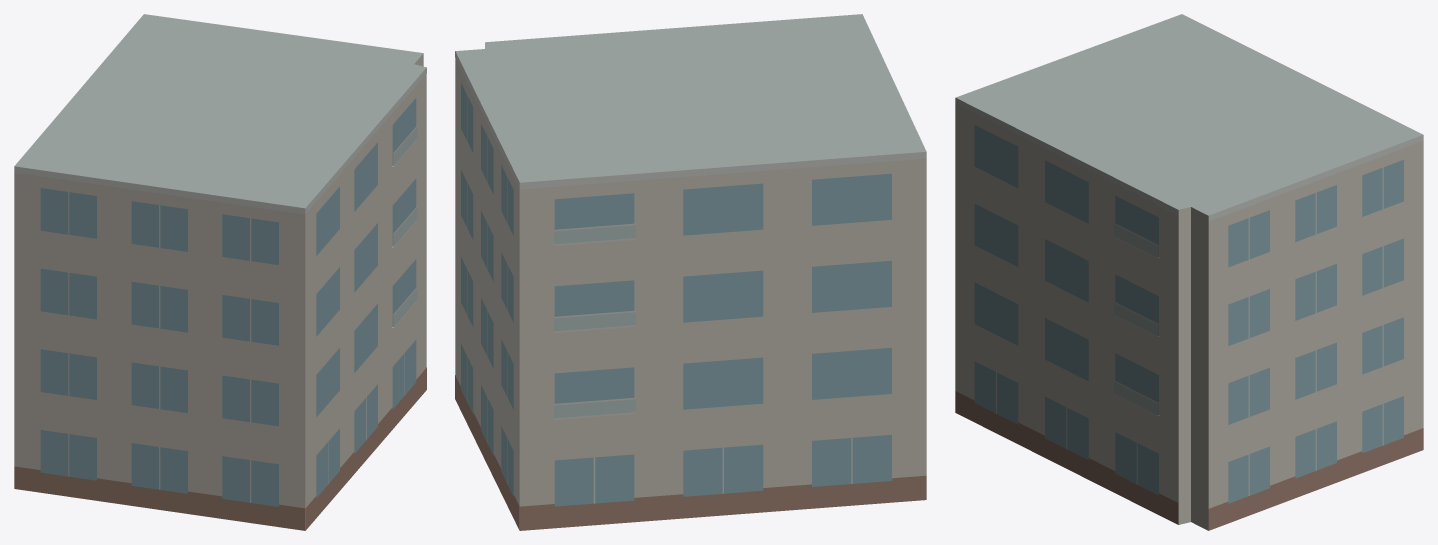
File: survey-upis-32877859.glb
The picture shows the model from 3 angles, left to right: view 1: azimuth 30°, elevation 25°; view 2: azimuth 150°, elevation 25°; view 3: azimuth 270°, elevation 25°; orthographic projection. The views are drawn at different scales.
Parts seen in each view (by area): view 1: survey-upis-32877859.tmp; view 2: survey-upis-32877859.tmp; view 3: survey-upis-32877859.tmp.
Part boxes in pixels (x1,y1,x2,y2): survey-upis-32877859.tmp: [14, 14, 426, 530]; survey-upis-32877859.tmp: [455, 14, 926, 530]; survey-upis-32877859.tmp: [955, 14, 1423, 530].
Size of the model in its own units: 17.58 by 12.8 by 17.24.
